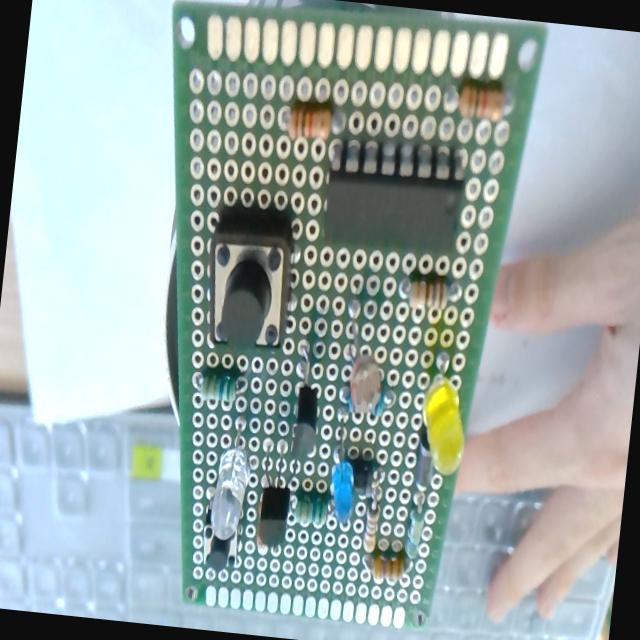IC: (306, 146, 478, 266)
led: (412, 334, 481, 480), (206, 418, 256, 542), (320, 410, 364, 528)
resistor: (434, 78, 520, 130), (272, 90, 351, 145), (388, 272, 466, 318), (186, 356, 251, 411), (352, 552, 417, 592), (399, 487, 431, 563), (286, 485, 330, 538), (358, 482, 386, 555)
switch: (190, 195, 305, 354), (189, 516, 248, 580)
transistor: (250, 452, 300, 554), (286, 352, 326, 466)
